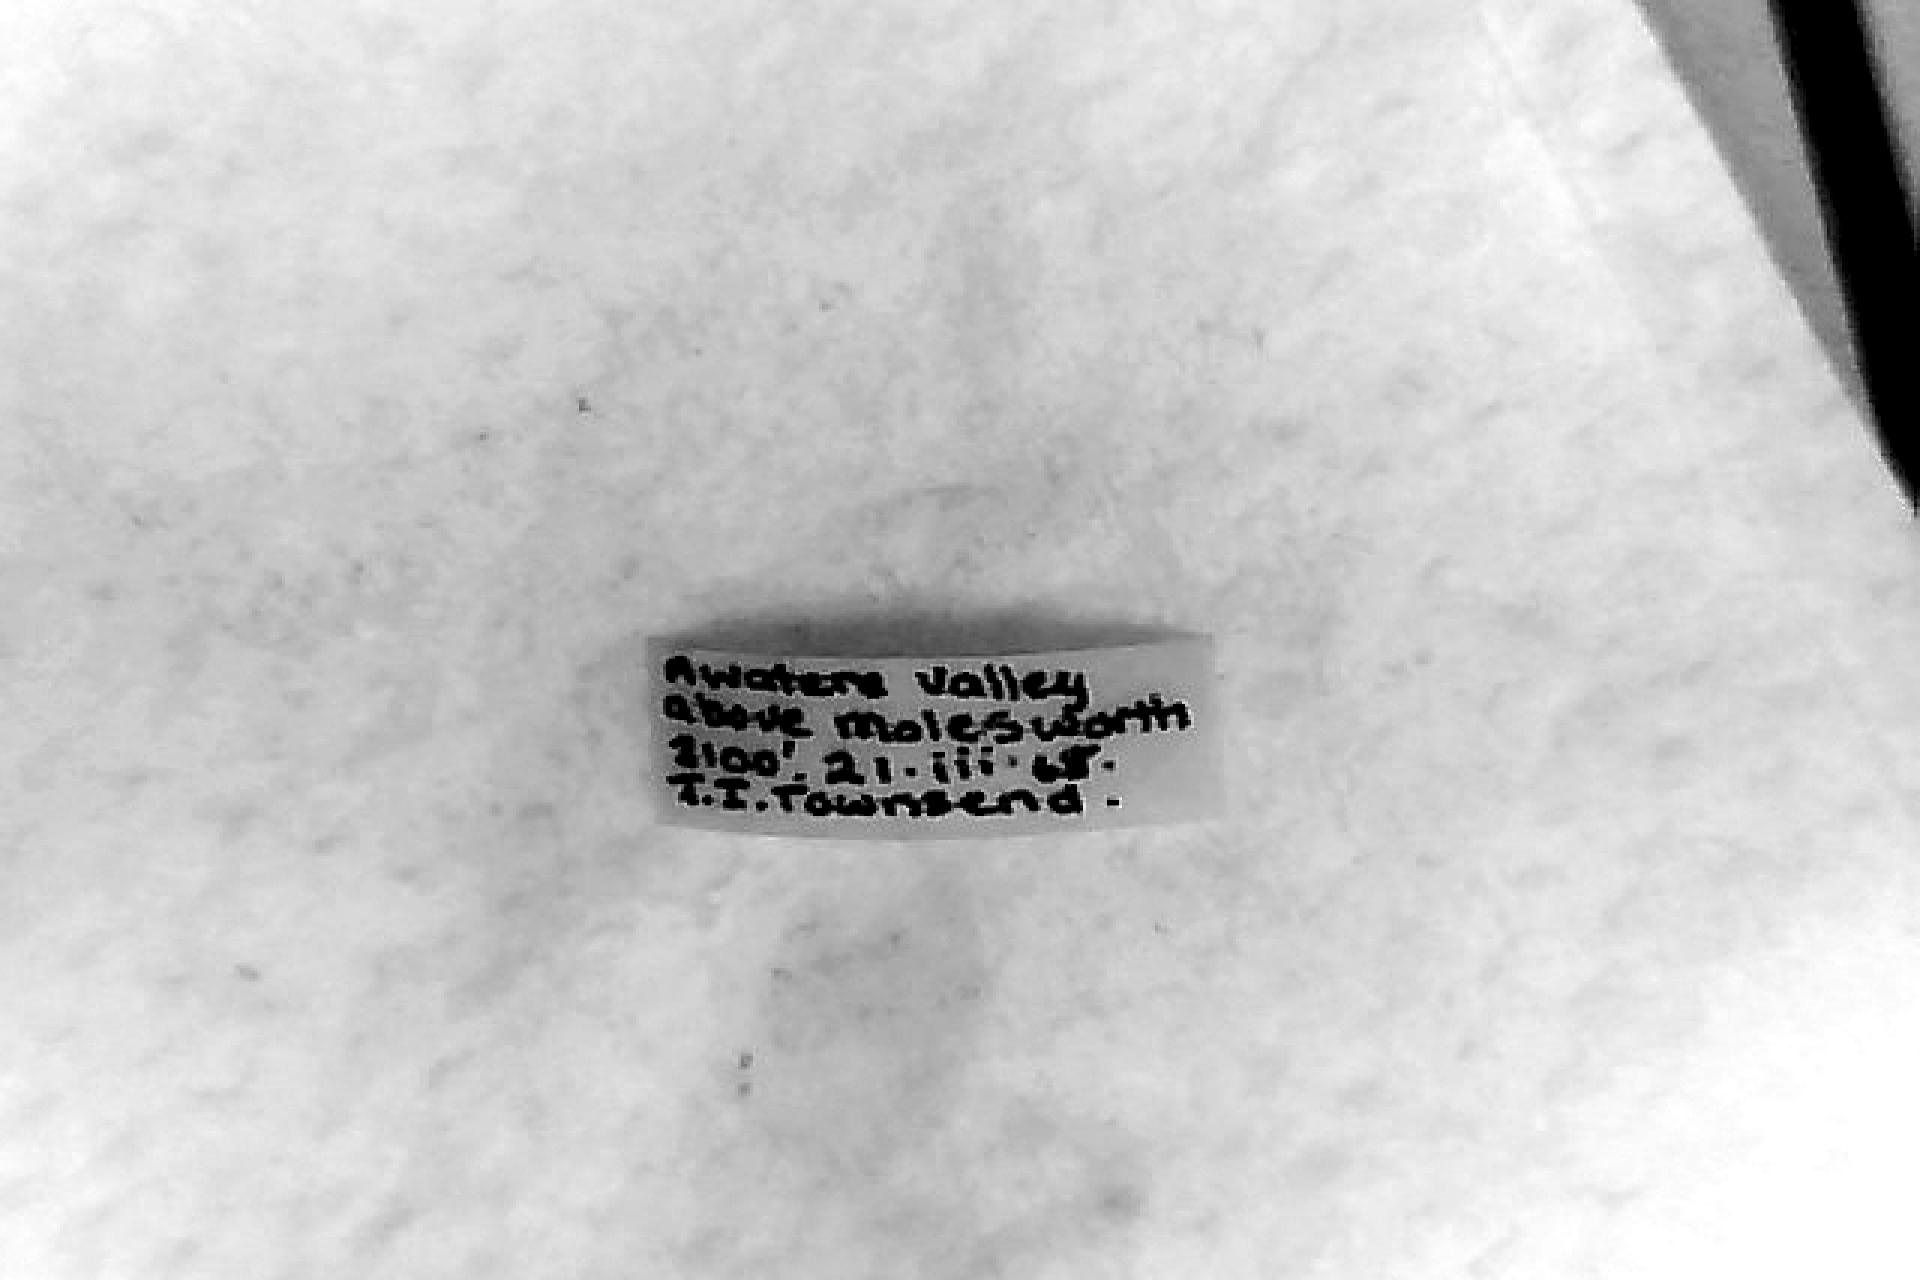hand_label: (653, 639, 1219, 834)
